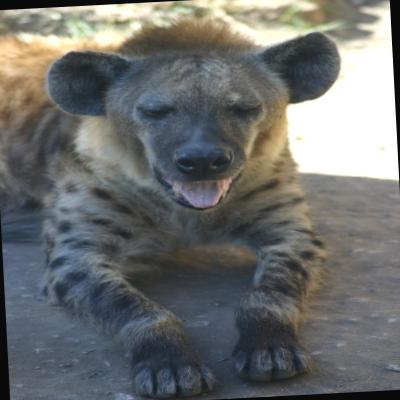hyenas: (0, 7, 374, 400)
